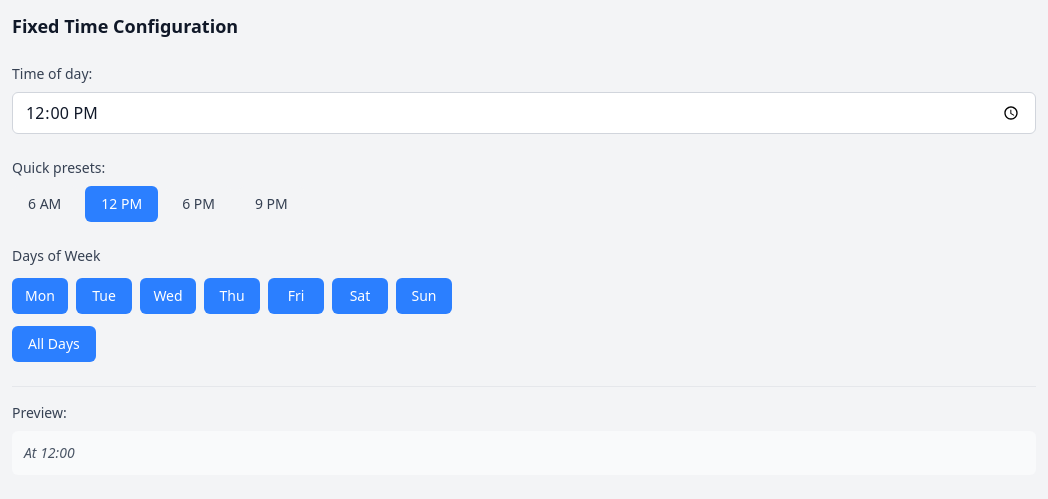
Test: FixedTimeTriggerForm › Time of Day Input (react-hook-form + Zod) › shows error and does not propagate when input is cleared
Clear the time field labelled "Time of day:" at (524,113), box [12,92,1036,134]
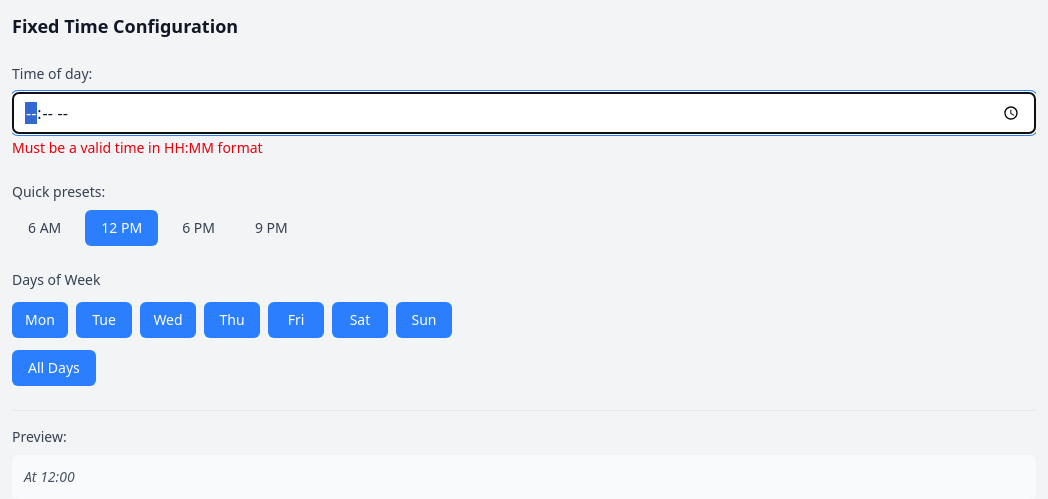
Expected: the message "Must be a valid time in HH:MM format" is shown, [12,138,263,157]
